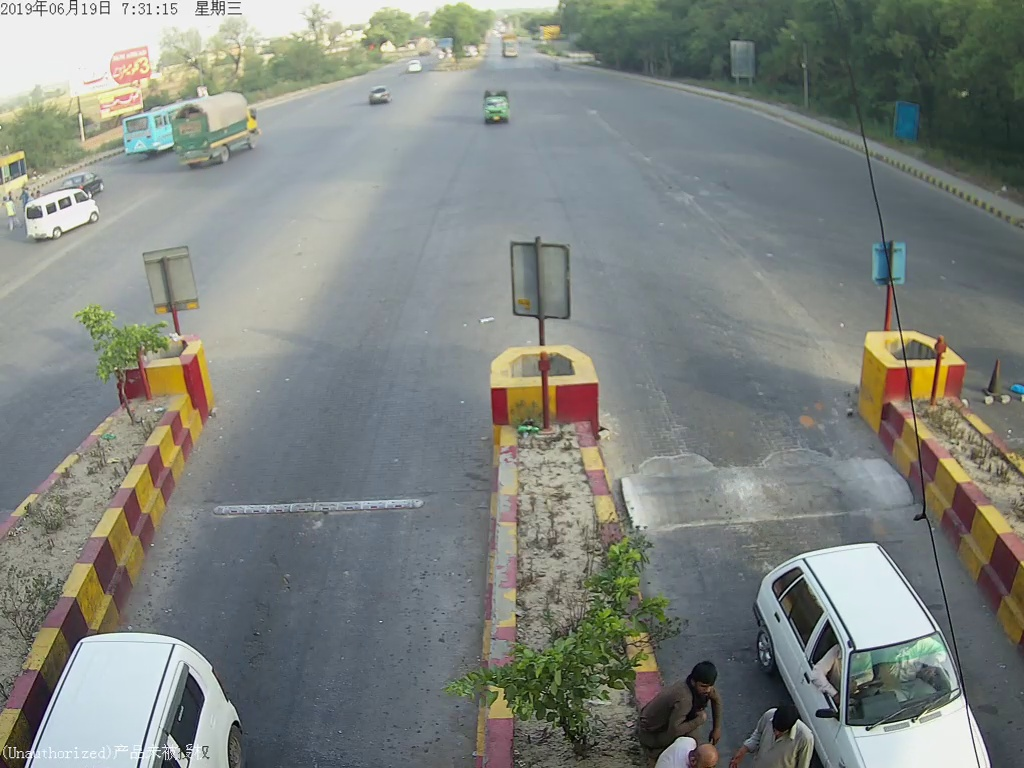Cat-1: (475, 86, 521, 132)
